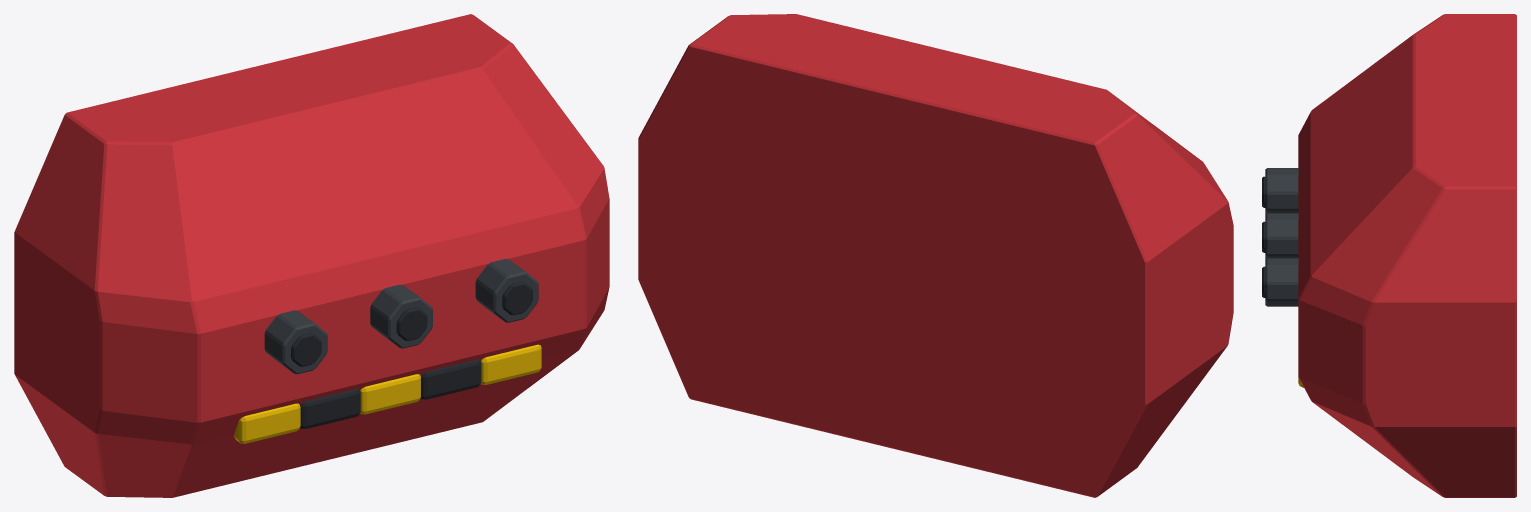
The model's file is HandBack_Set07_Salvo.fbx.
3 views of the same model, side by side, from view 1: azimuth 30°, elevation 25°; view 2: azimuth 150°, elevation 25°; view 3: azimuth 270°, elevation 25° (orthographic). The views are drawn at different scales.
Visible parts, largest first — view 1: HandBack_Set07_Salvo; view 2: HandBack_Set07_Salvo; view 3: HandBack_Set07_Salvo.
Part boxes in pixels (x1,y1,x2,y2): HandBack_Set07_Salvo: [14, 14, 609, 497]; HandBack_Set07_Salvo: [638, 14, 1233, 497]; HandBack_Set07_Salvo: [1262, 14, 1516, 497].
Size of the model in its own units: 0.3 by 0.2 by 0.1483.
